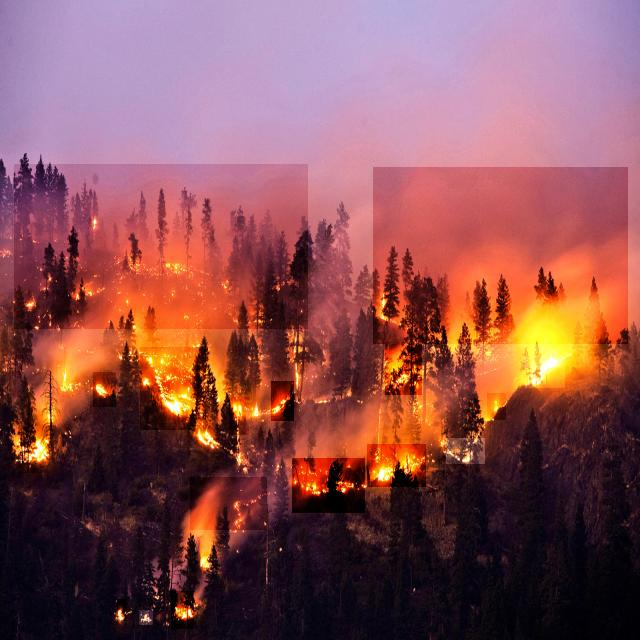Fire: (140, 347, 206, 430), (292, 458, 365, 513), (367, 444, 426, 487), (140, 248, 196, 290), (385, 342, 422, 396), (18, 424, 51, 473), (525, 356, 565, 388), (76, 272, 106, 307), (446, 438, 485, 464), (196, 420, 220, 461), (271, 381, 294, 421), (171, 591, 194, 629), (93, 372, 116, 407), (229, 398, 249, 436), (56, 361, 74, 397), (20, 292, 42, 320), (246, 400, 266, 426), (487, 393, 506, 420), (196, 548, 214, 574), (139, 610, 153, 625), (117, 599, 126, 621)
Smoke: (14, 164, 308, 329), (373, 167, 628, 344), (190, 477, 267, 530)
